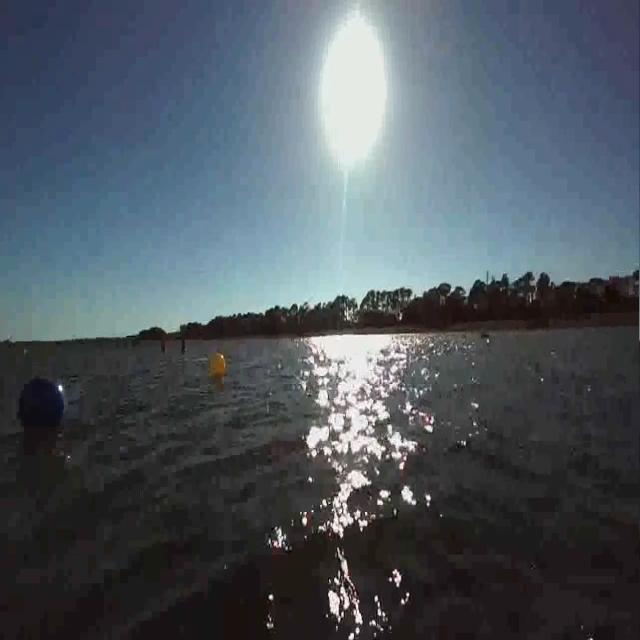black-buoy: (16, 373, 65, 438)
yellow-buoy: (210, 352, 227, 379)
